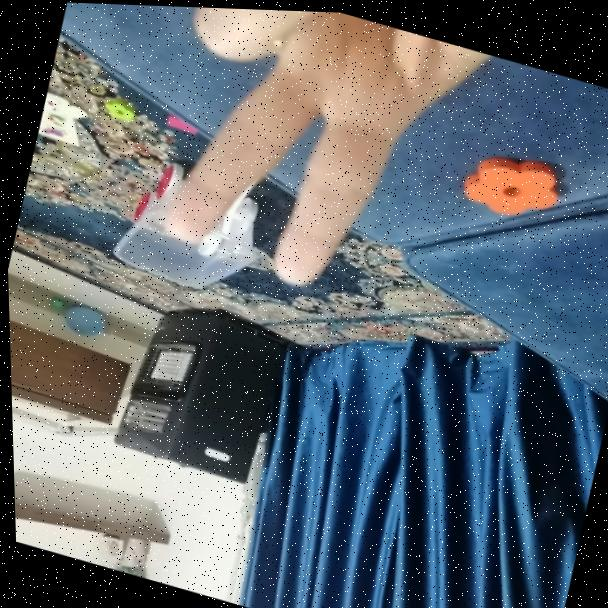two: (132, 4, 451, 313)
